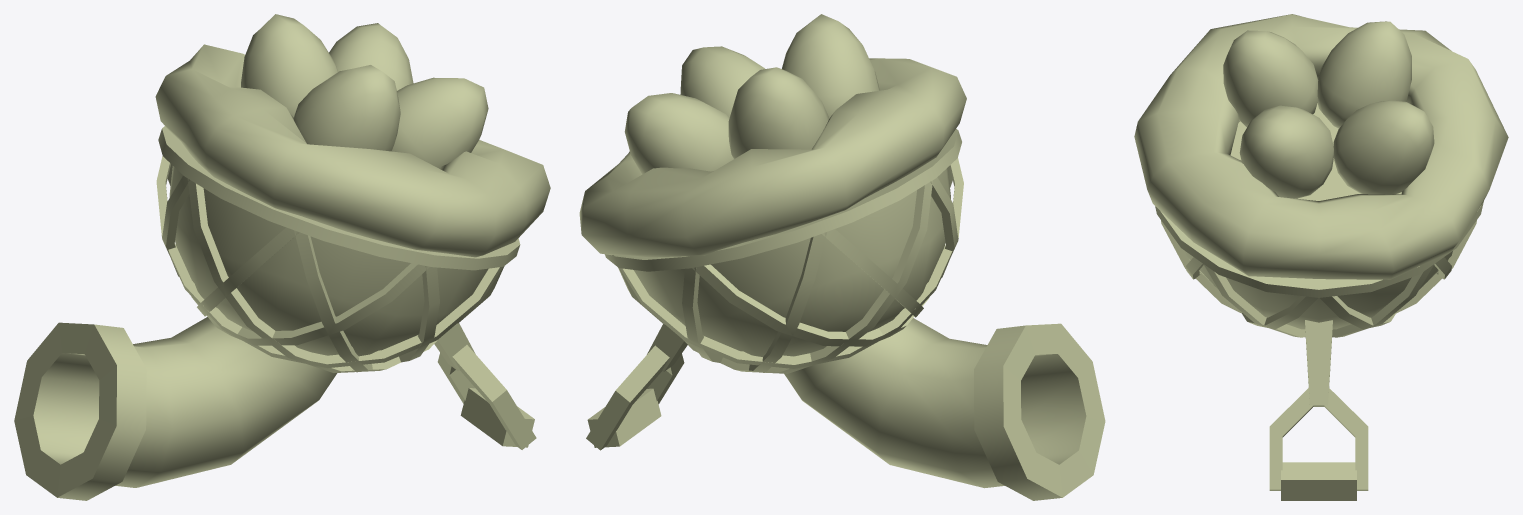
File: Pistola huevos.fbx
The picture shows the model from 3 angles, left to right: view 1: azimuth 30°, elevation 25°; view 2: azimuth 150°, elevation 25°; view 3: azimuth 270°, elevation 25°; orthographic projection. The views are drawn at different scales.
Parts seen in each view (by area): view 1: Arma, Huevos, Rejilla, Aro; view 2: Arma, Huevos, Rejilla, Aro; view 3: Arma, Huevos, Rejilla, Aro, Plano_negro.
Boxes of the visible parts, x1,y1,x2,y2 form: Arma: (14, 44, 550, 500); Huevos: (241, 14, 488, 168); Rejilla: (156, 156, 504, 372); Aro: (158, 126, 520, 270); Arma: (579, 58, 1105, 500); Huevos: (624, 14, 879, 174); Rejilla: (618, 158, 963, 373); Aro: (605, 129, 961, 271); Arma: (1134, 14, 1508, 500); Huevos: (1223, 21, 1434, 198); Rejilla: (1161, 220, 1476, 337); Aro: (1155, 201, 1483, 297); Plano_negro: (1230, 103, 1401, 200).
Bounding box in the file's own units: 12.09 × 10.66 × 9.17.
